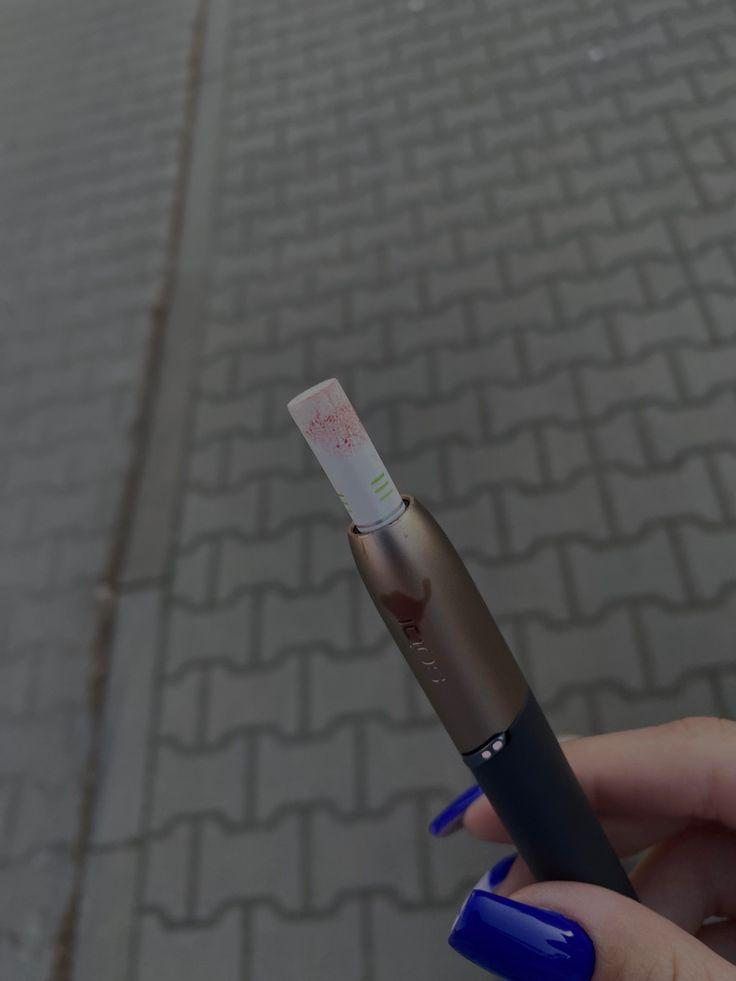iqos: (289, 381, 634, 897)
